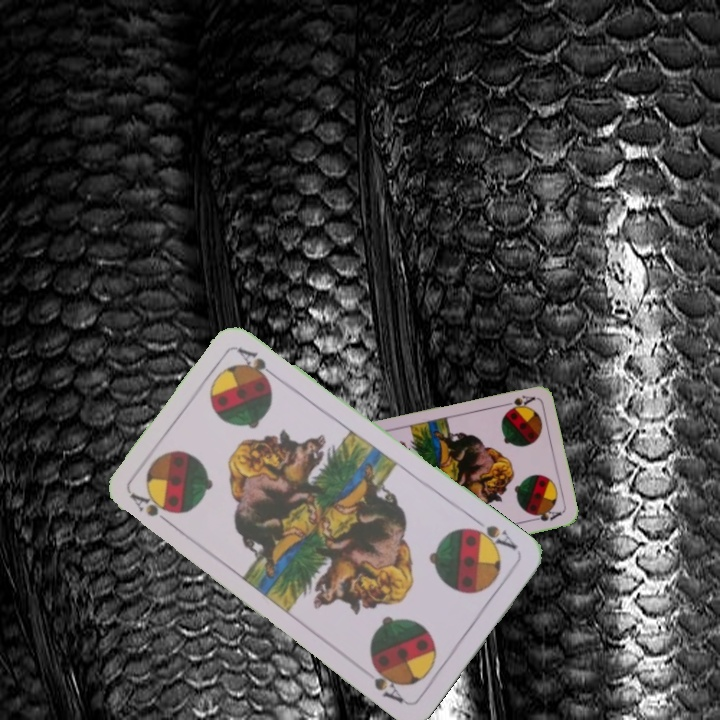SA: (464, 514, 519, 554), (125, 489, 178, 530), (497, 391, 537, 412)
